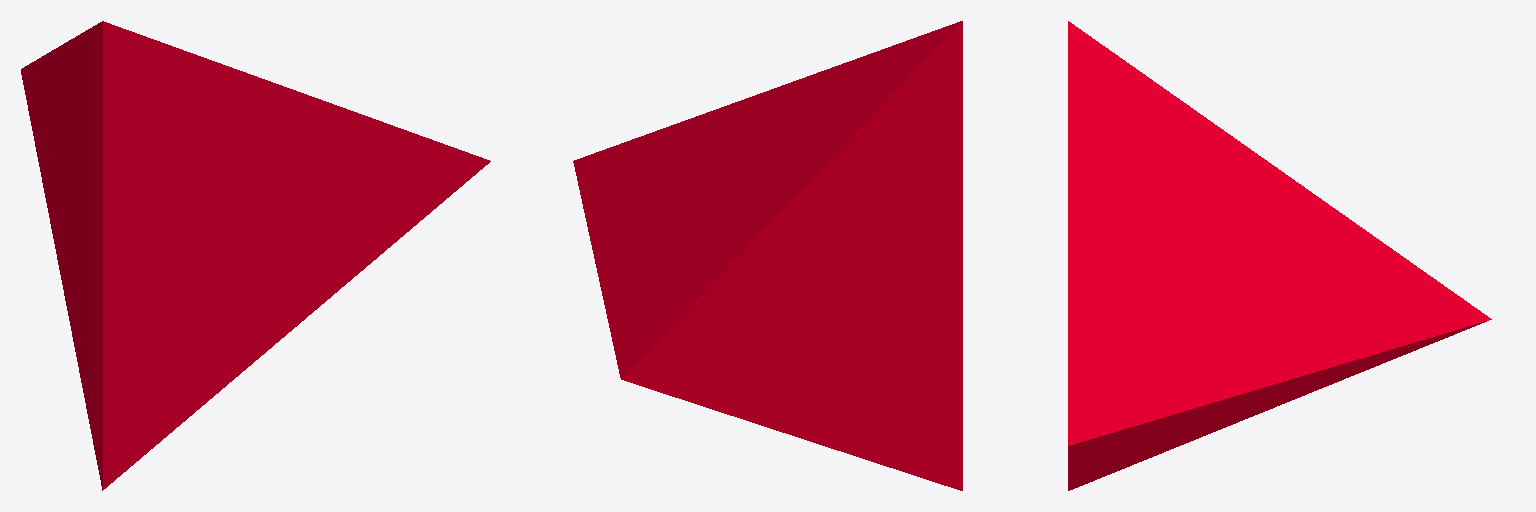
The robot description file, URDF, robot "tetrahedron.urdf":
<?xml version="1.0" ?>
<robot name="tetrahedron.urdf">

  <link name="empty">
    <contact>
    	<friction_anchor/>
    	   <lateral_friction value="1.0"/>
    </contact>
    <inertial>
      <origin rpy="0 0 0" xyz="0 0 0"/>
       <mass value=".1"/>
       <inertia ixx="1" ixy="0" ixz="0" iyy="1" iyz="0" izz="1"/>
    </inertial>
    <visual>
      <origin rpy="0 0 0" xyz="0 0 0"/>
      <geometry>
				<mesh filename="tetrahedron.obj" scale="1.0 1.0 1.0"/>
      </geometry>
       <material name="red">
        <color rgba="0.9 0 0.2 1.0"/>
      </material>
    </visual>
    <collision>
      <origin rpy="0 0 0" xyz="0 0 0"/>
      <geometry>
				<mesh filename="tetrahedron.obj" scale="1.0 1.0 1.0"/>
      </geometry>
    </collision>
  </link>


</robot>

--- Facts derived from the render (not from the file) ---
3 views of the same robot in one strip: view 1: azimuth 30°, elevation 25°; view 2: azimuth 150°, elevation 25°; view 3: azimuth 270°, elevation 25° (orthographic).
Model tetrahedron.urdf with 1 links and 0 joints (none), rooted at empty, posed all joints at 0.
Visible links, largest first — view 1: empty; view 2: empty; view 3: empty.
Link boxes in pixels (box(x1,y1,x2,y2)): empty: box(21, 21, 490, 490); empty: box(573, 21, 962, 490); empty: box(1068, 21, 1491, 490).
Bounding box of the posed robot: 0.1131 × 0.1067 × 0.1306 m (x, y, z).
1 mesh visuals loaded from 1 distinct referenced files (1 OBJ).